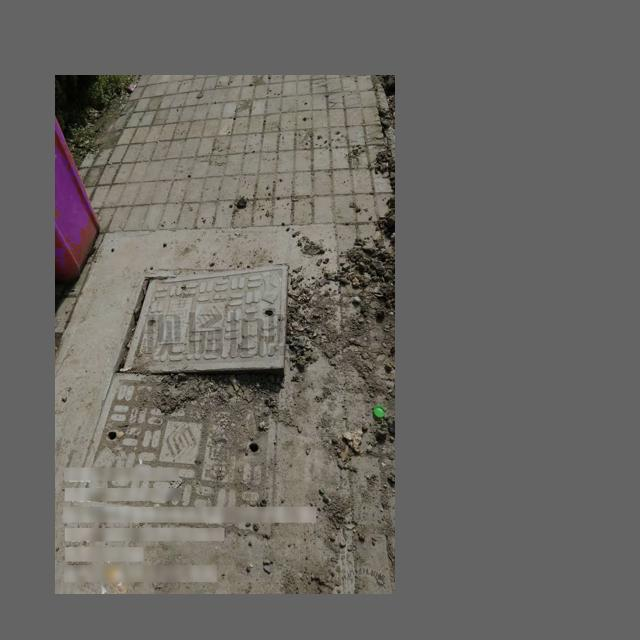uncovered: (69, 264, 288, 544)
